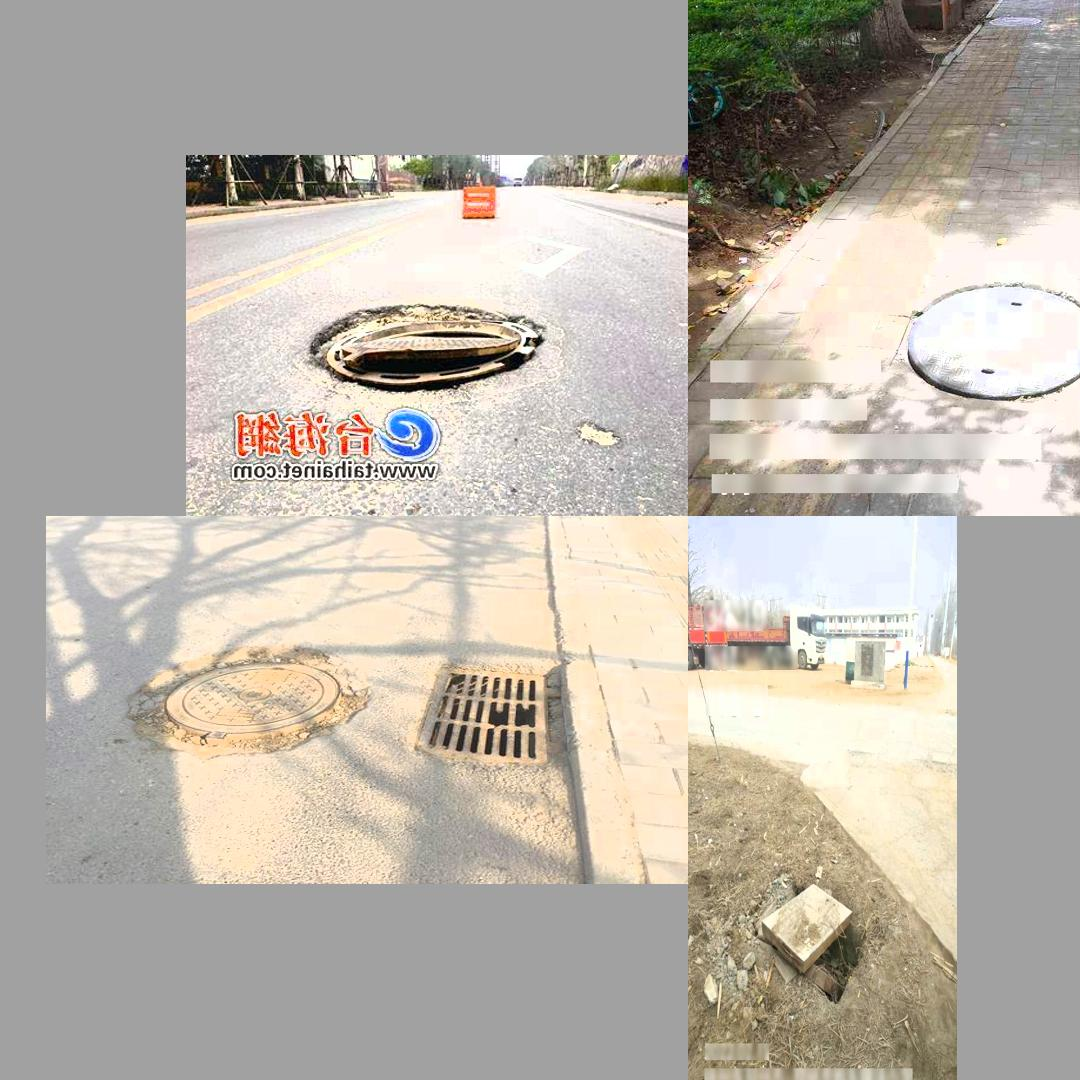circle: (274, 293, 596, 412), (125, 635, 377, 763), (901, 281, 1080, 403), (747, 869, 872, 1014)
